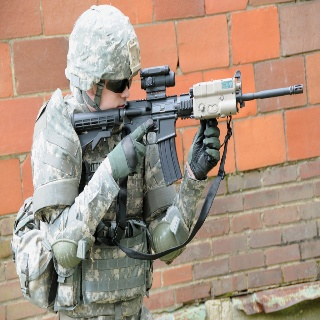rifle: (71, 65, 305, 185)
